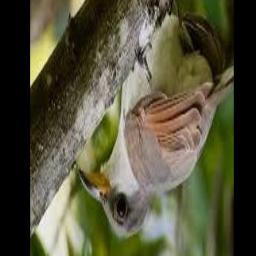Cuckoo: (78, 0, 233, 239)
